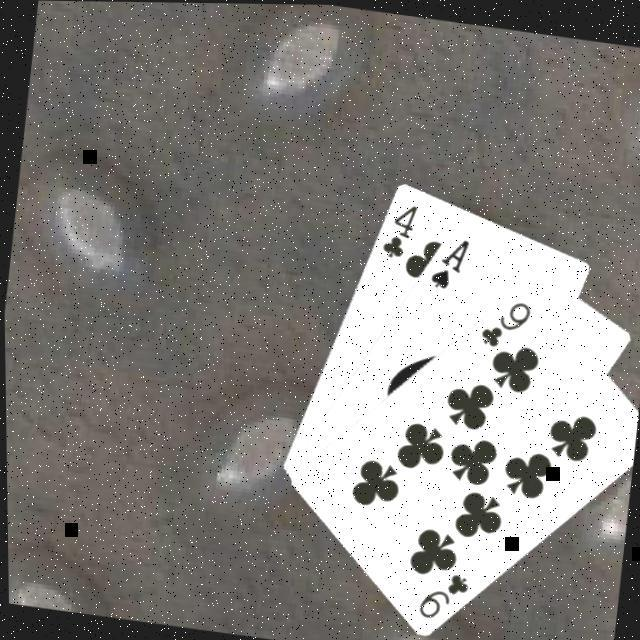4C: (376, 195, 421, 262)
9C: (474, 292, 536, 354), (412, 564, 473, 626)
AS: (424, 230, 474, 294)
